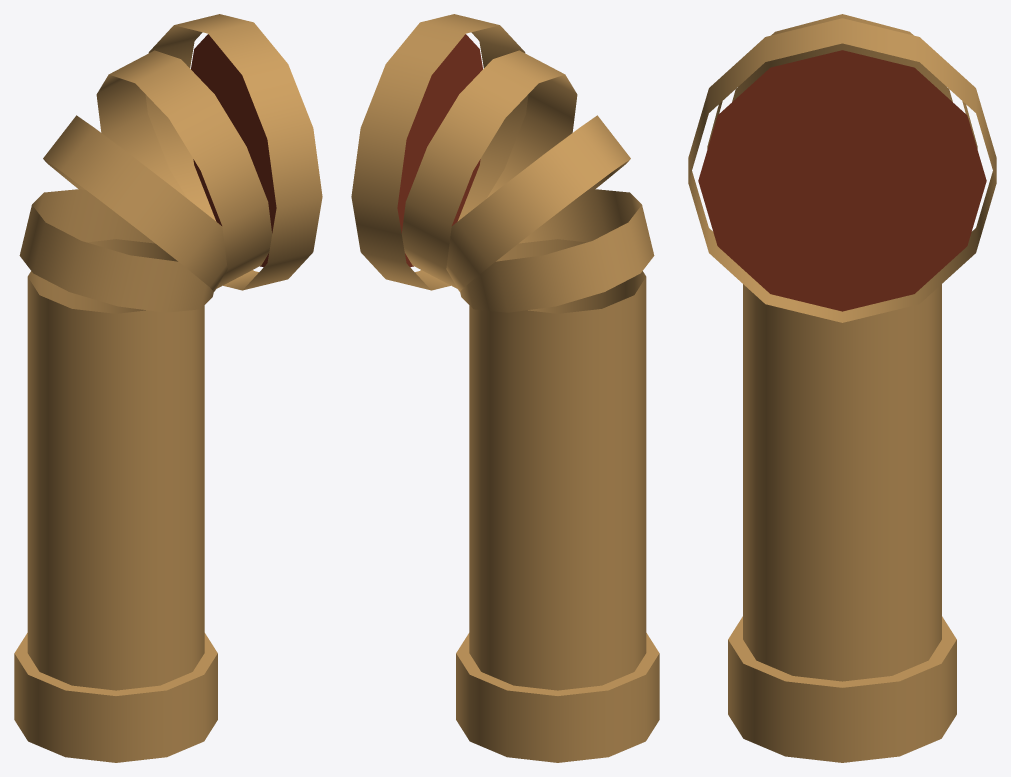
File: parametric-ventilator-1st.glb
3 views of the same model, side by side, from view 1: azimuth 30°, elevation 25°; view 2: azimuth 150°, elevation 25°; view 3: azimuth 270°, elevation 25° (orthographic). The views are drawn at different scales.
Visible parts, largest first — view 1: parametric-ventilator-1st; view 2: parametric-ventilator-1st; view 3: parametric-ventilator-1st.
Part boxes in pixels (<box>): parametric-ventilator-1st: <box>14,14,322,762</box>; parametric-ventilator-1st: <box>351,14,659,762</box>; parametric-ventilator-1st: <box>688,14,996,762</box>.
Bounding box in the file's own units: 1.06 × 2.98 × 1.12.
